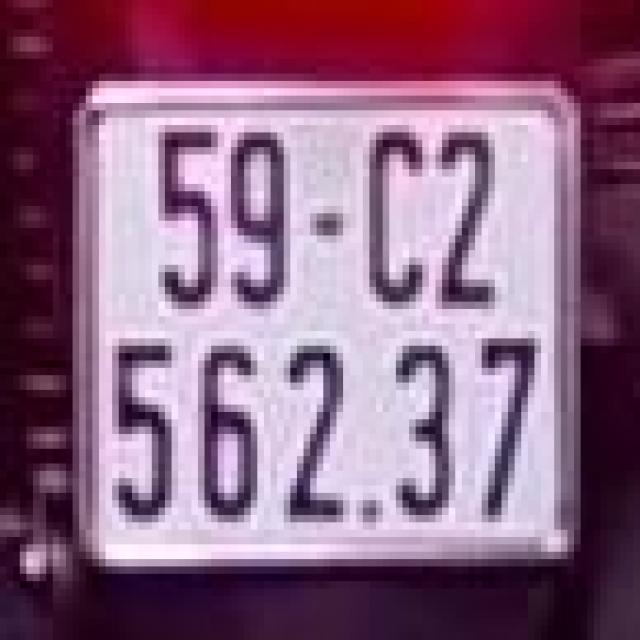2: (270, 324, 363, 522), (432, 110, 512, 324)
3: (393, 342, 465, 526)
5: (106, 309, 184, 530), (142, 110, 221, 316)
6: (188, 331, 267, 522)
7: (465, 331, 538, 515)
9: (221, 118, 300, 309)
C: (343, 99, 442, 335)
